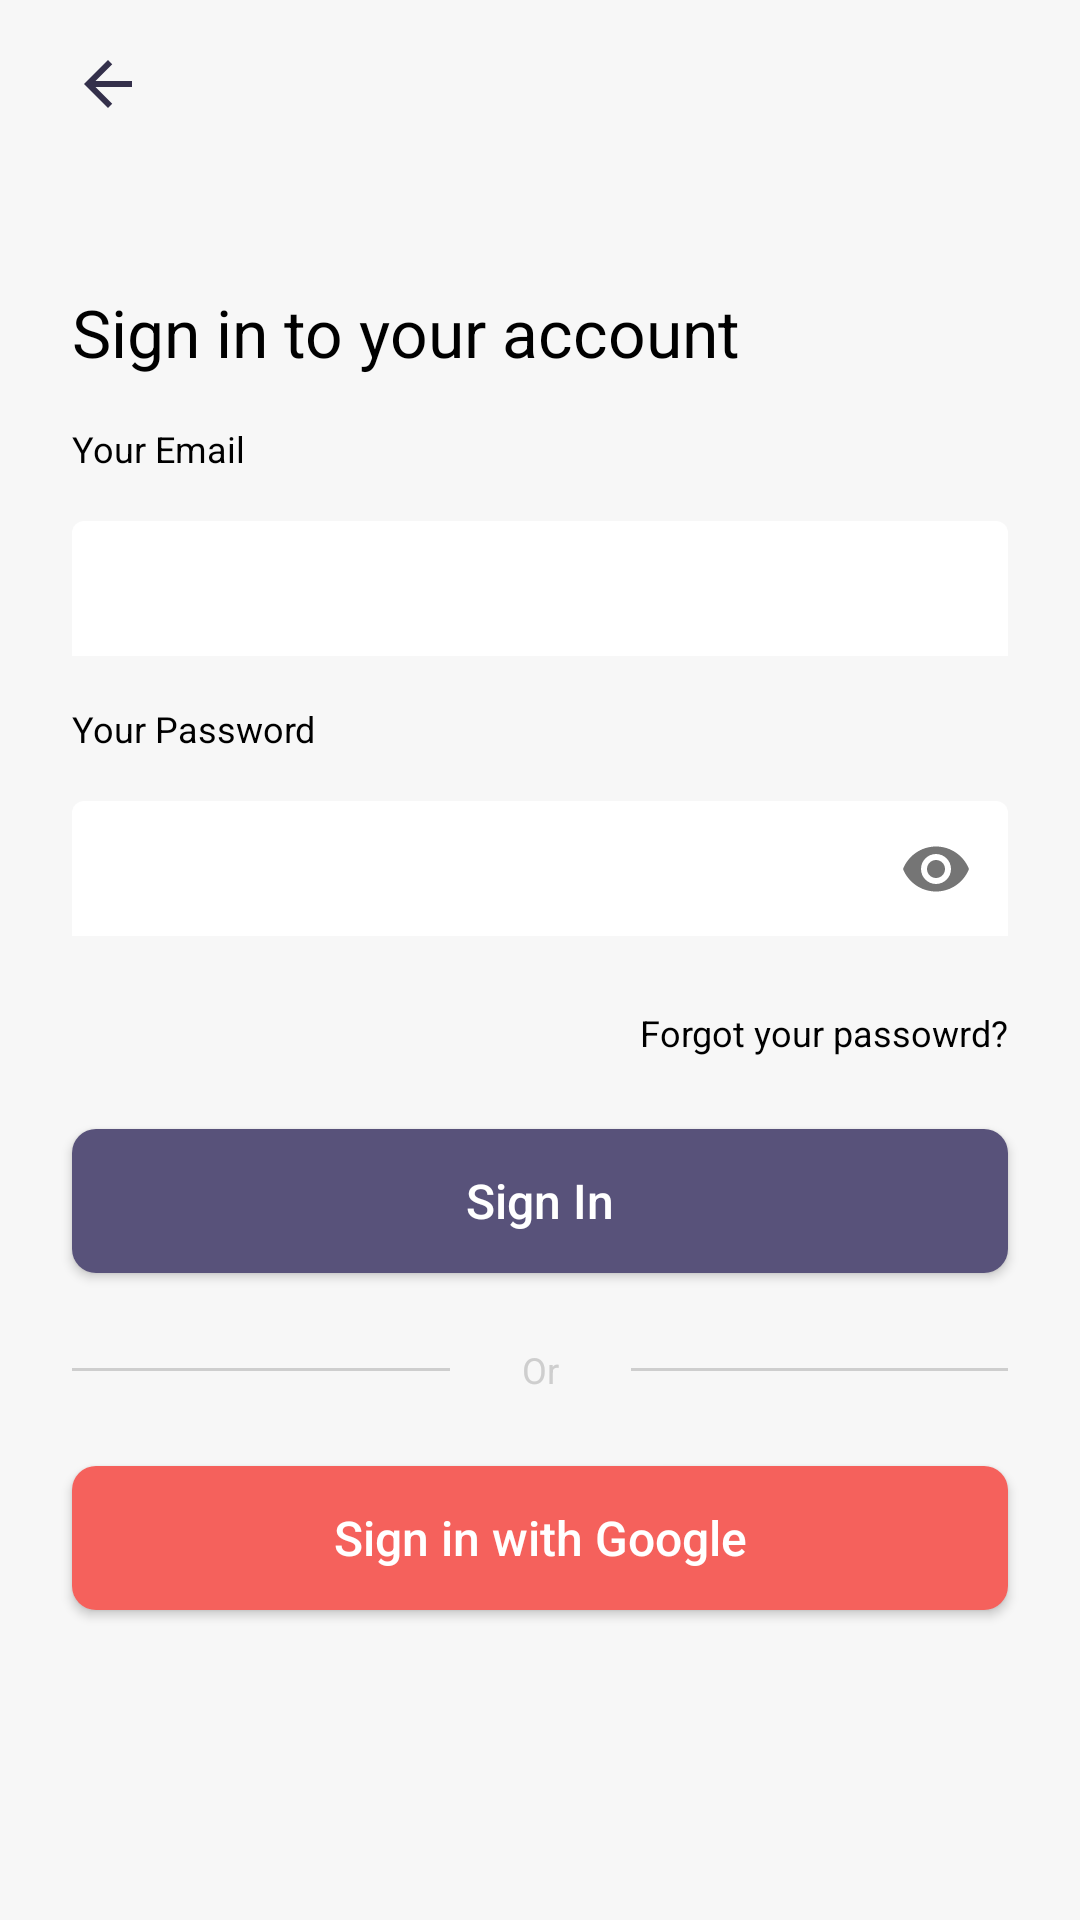

Icon click points for this 1080px×1920px phone screenshot, format [x,y]:
arrow back: [108,84]
